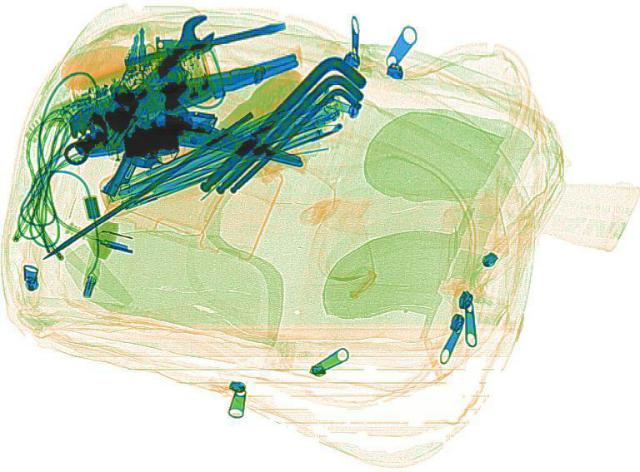Gun: (96, 96, 220, 209)
Wrench: (48, 8, 230, 169)
